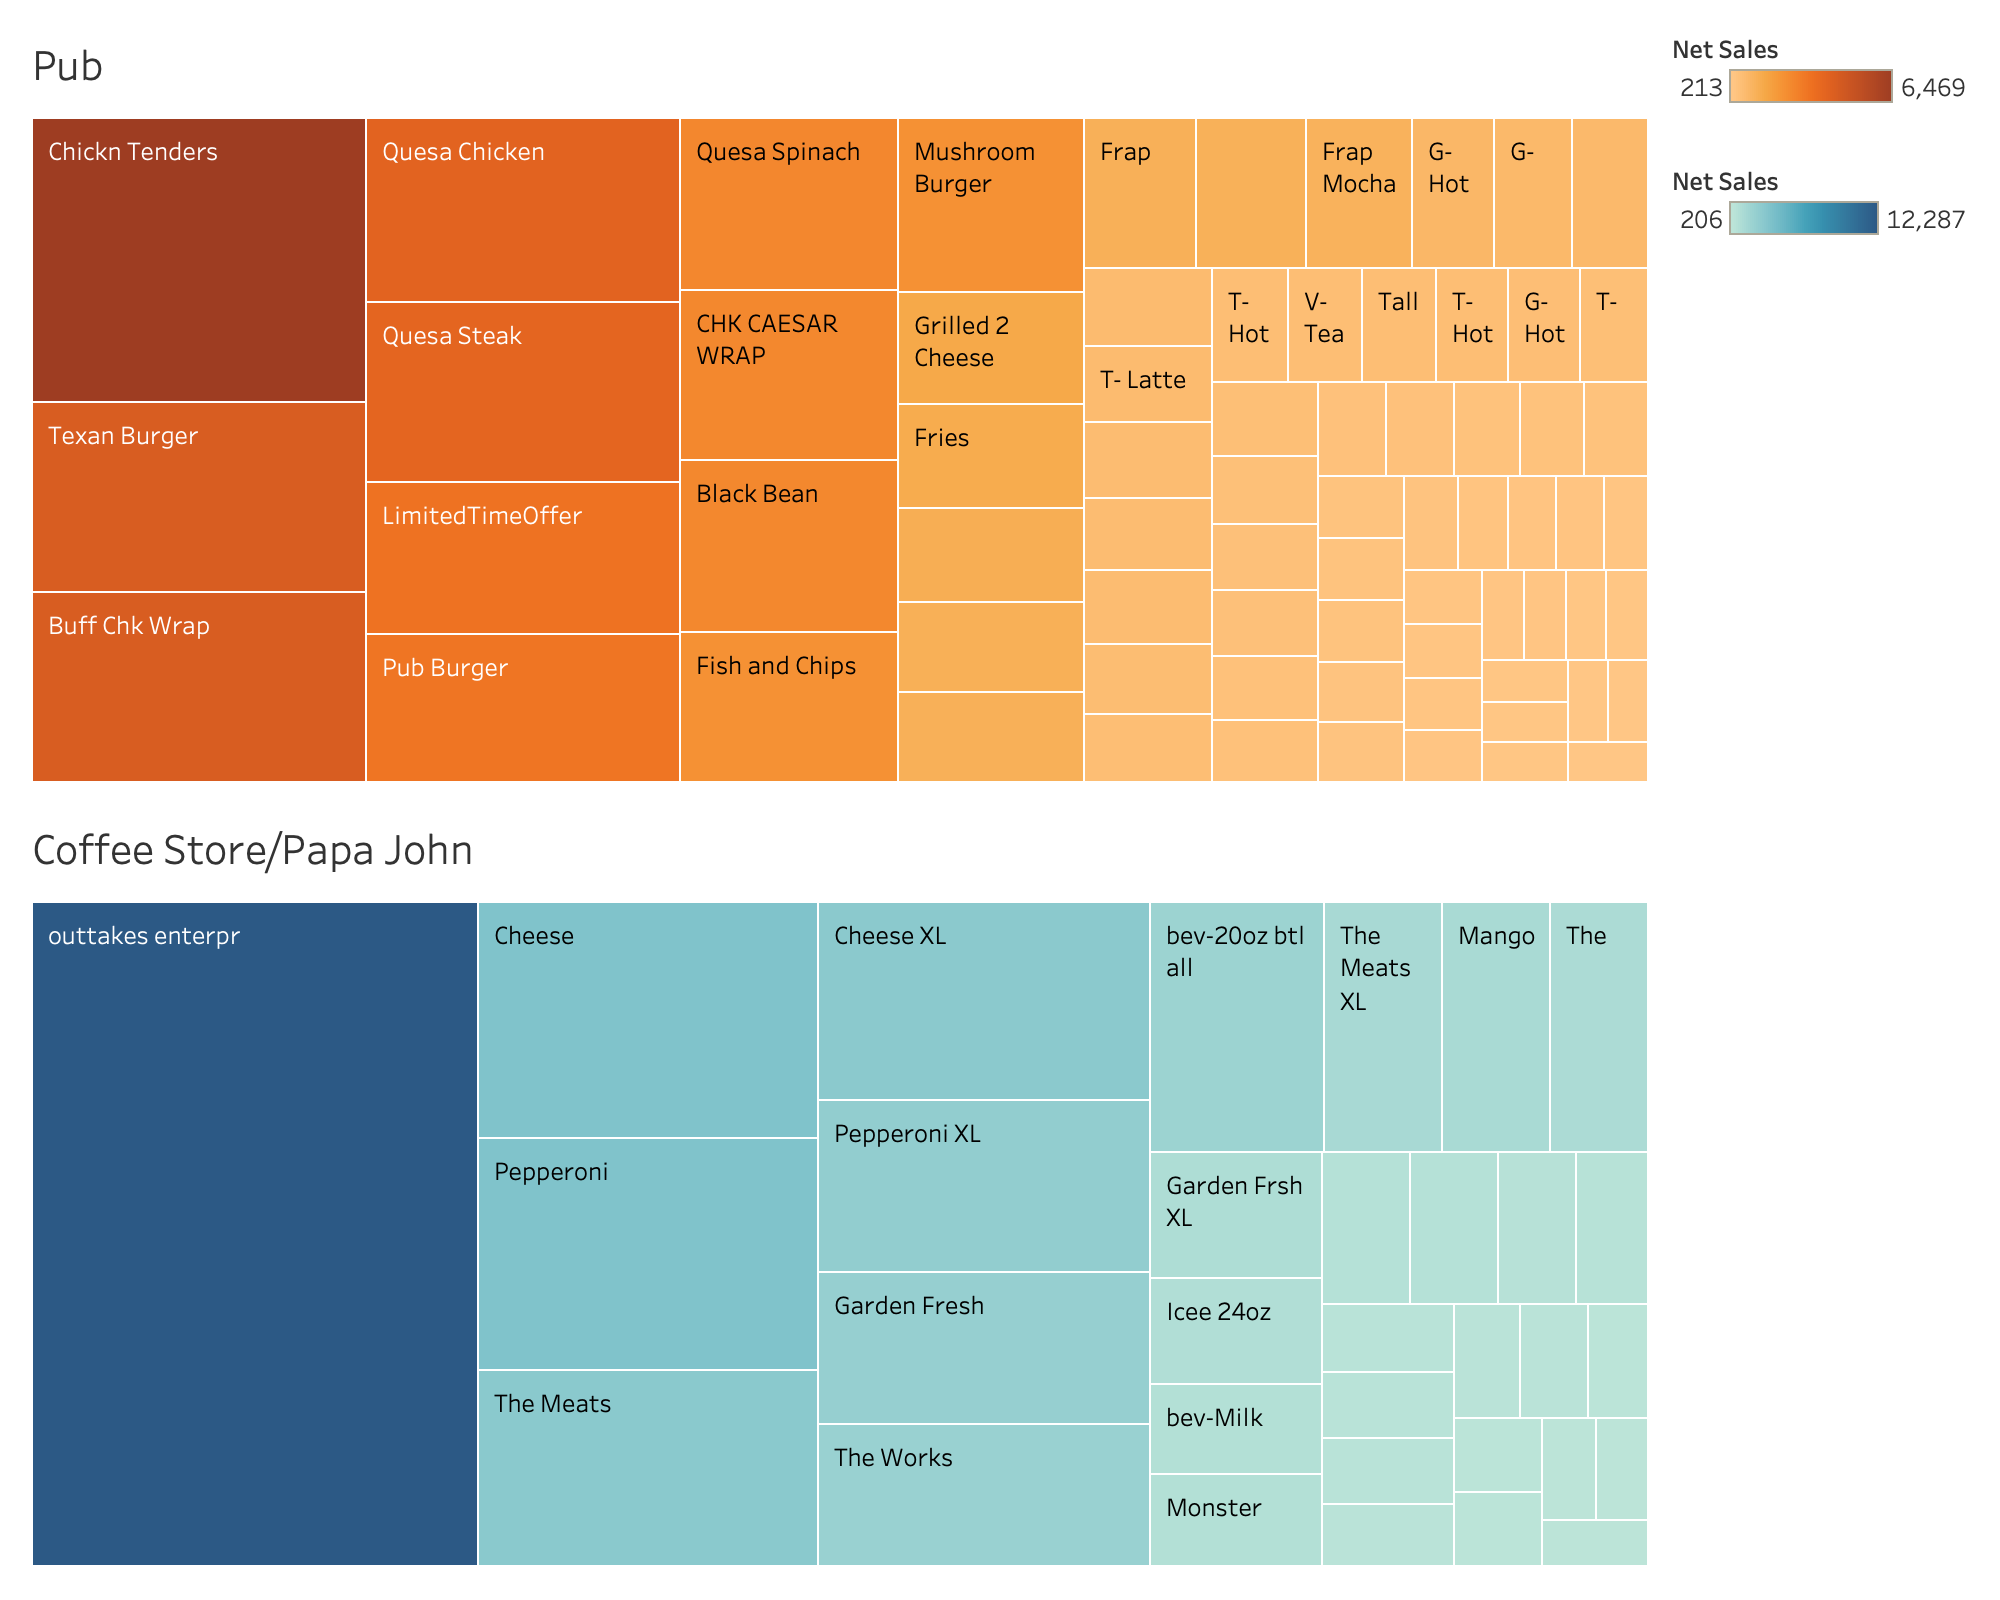

The dashboard page shown, as its layout file describes it:
{"tool":"tableau","page":{"name":"Dashboard 1","canvas":[1000,800],"ordinal":0},"visuals":[{"type":"worksheet","title":"Pub","mark":"Automatic","box":[8,8,824,392]},{"type":"legend","title":"Pub","param":"[federated.0ozqpxv00zy3um12s12wv124hy6h].[sum:Net_Sales:qk]","box":[832,8,160,65]},{"type":"legend","title":"Coffee Store/Papa John","param":"[federated.0ozqpxv00zy3um12s12wv124hy6h].[sum:Net_Sales:qk]","box":[832,73,160,65]},{"type":"worksheet","title":"Coffee Store/Papa John","mark":"Automatic","box":[8,400,824,392]}]}

Visuals, with their boxes in screenshot pixels (x1, y1, x2, y2), scaled from the page's 1000x800 canvas onto the 2000x1600 screenshot:
"Pub" worksheet: [16,16,1664,800]
"Pub" legend: [1664,16,1984,146]
"Coffee Store/Papa John" legend: [1664,146,1984,276]
"Coffee Store/Papa John" worksheet: [16,800,1664,1584]
